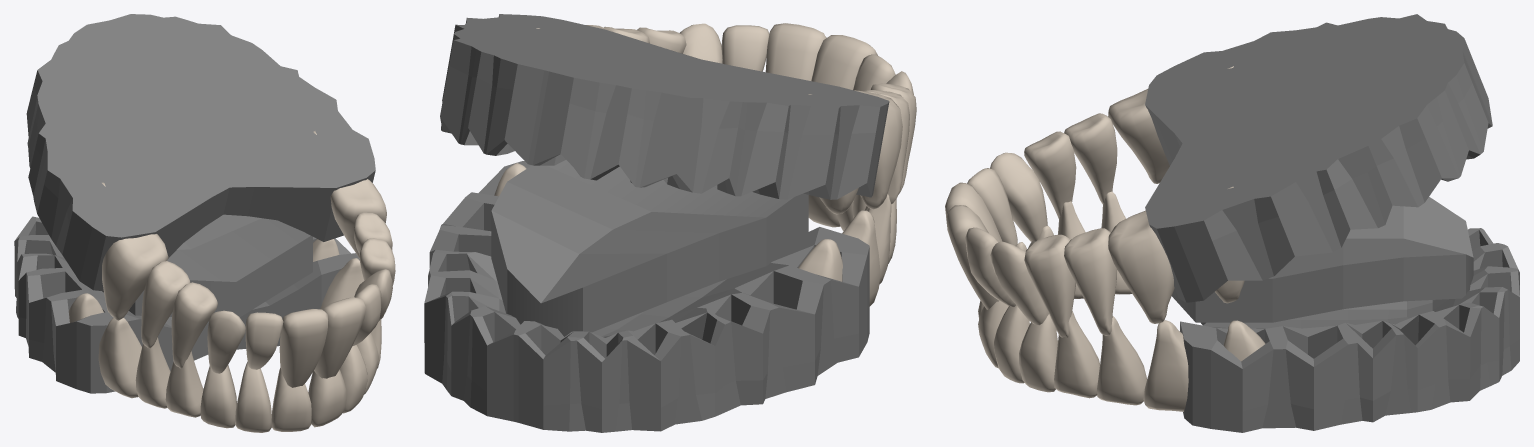
File: RealisticMouthTeeth.FBX
3 views of the same model, side by side, from view 1: azimuth 30°, elevation 25°; view 2: azimuth 150°, elevation 25°; view 3: azimuth 270°, elevation 25° (orthographic). The views are drawn at different scales.
Parts seen in each view (by area): view 1: Box006, Group003, Group002, Box007, Box010; view 2: Box007, Box006, Box010, Group003, Group002; view 3: Box006, Box007, Group003, Box010, Group002.
Part boxes in pixels (box(x1,y1,x2,y2)): Box006: box(26, 14, 375, 291); Group003: box(102, 131, 395, 387); Group002: box(68, 239, 381, 432); Box007: box(14, 216, 359, 393); Box010: box(102, 214, 312, 316); Box007: box(424, 161, 869, 432); Box006: box(440, 14, 889, 199); Box010: box(491, 160, 808, 336); Group003: box(536, 23, 916, 214); Group002: box(494, 163, 896, 306); Box006: box(1145, 14, 1492, 302); Box007: box(1180, 228, 1519, 432); Group003: box(945, 66, 1244, 337); Box010: box(1172, 197, 1473, 322); Group002: box(978, 191, 1265, 411).
Bounding box in the file's own units: 6.58 × 5.57 × 9.51.
